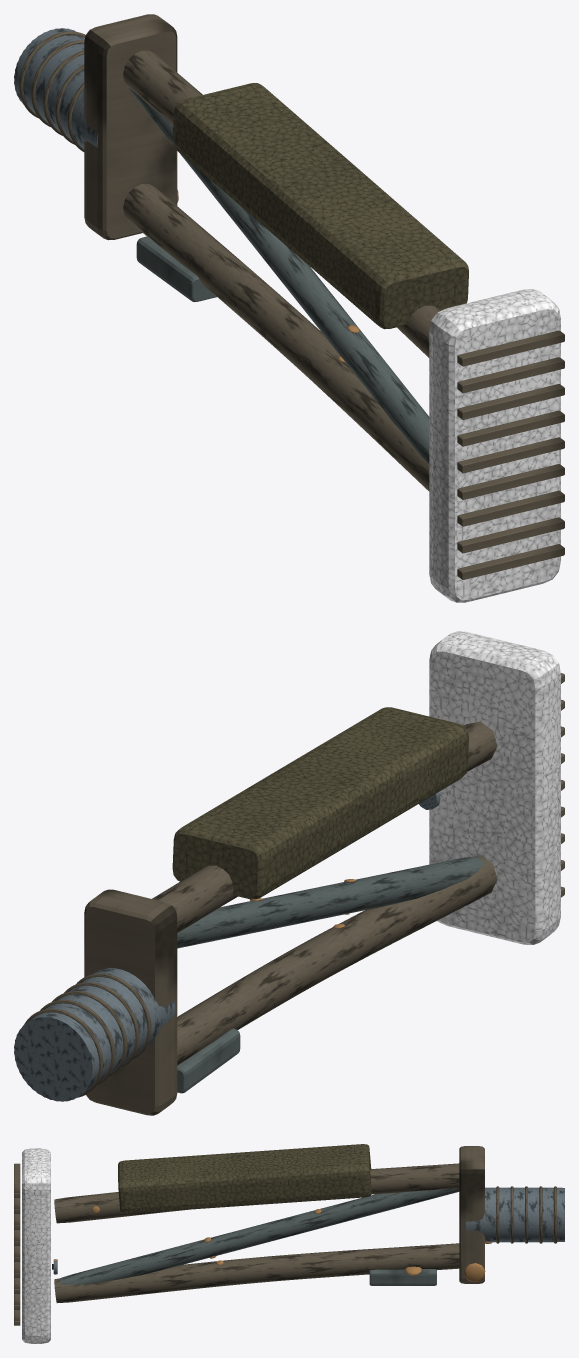
3 renders of one model, top to bottom at view 1: azimuth 30°, elevation 25°; view 2: azimuth 150°, elevation 25°; view 3: azimuth 270°, elevation 25°, orthographic. The views are drawn at different scales.
Parts seen in each view (by area): view 1: machined receiver, saddle leather, vulcanized grip, edge hardware, brushed steel; view 2: machined receiver, vulcanized grip, saddle leather, brushed steel, edge hardware; view 3: machined receiver, saddle leather, edge hardware, vulcanized grip, brushed steel, peened pin.
Part boxes in pixels (<box>): machined receiver: <box>19,14,564,579</box>; saddle leather: <box>172,83,468,329</box>; vulcanized grip: <box>429,289,560,602</box>; edge hardware: <box>128,87,429,464</box>; brushed steel: <box>14,28,97,148</box>; machined receiver: <box>24,673,564,1115</box>; vulcanized grip: <box>429,631,560,944</box>; saddle leather: <box>172,707,468,899</box>; brushed steel: <box>14,792,440,1101</box>; edge hardware: <box>177,856,484,1093</box>; machined receiver: <box>14,1146,556,1325</box>; saddle leather: <box>118,1144,371,1213</box>; edge hardware: <box>59,1188,459,1285</box>; vulcanized grip: <box>22,1148,50,1343</box>; brushed steel: <box>53,1187,564,1274</box>; peened pin: <box>92,1206,485,1282</box>.
Size of the model in its own units: 0.0518 by 0.1215 by 0.344.
Materials: 7 (5 with a texture image).
